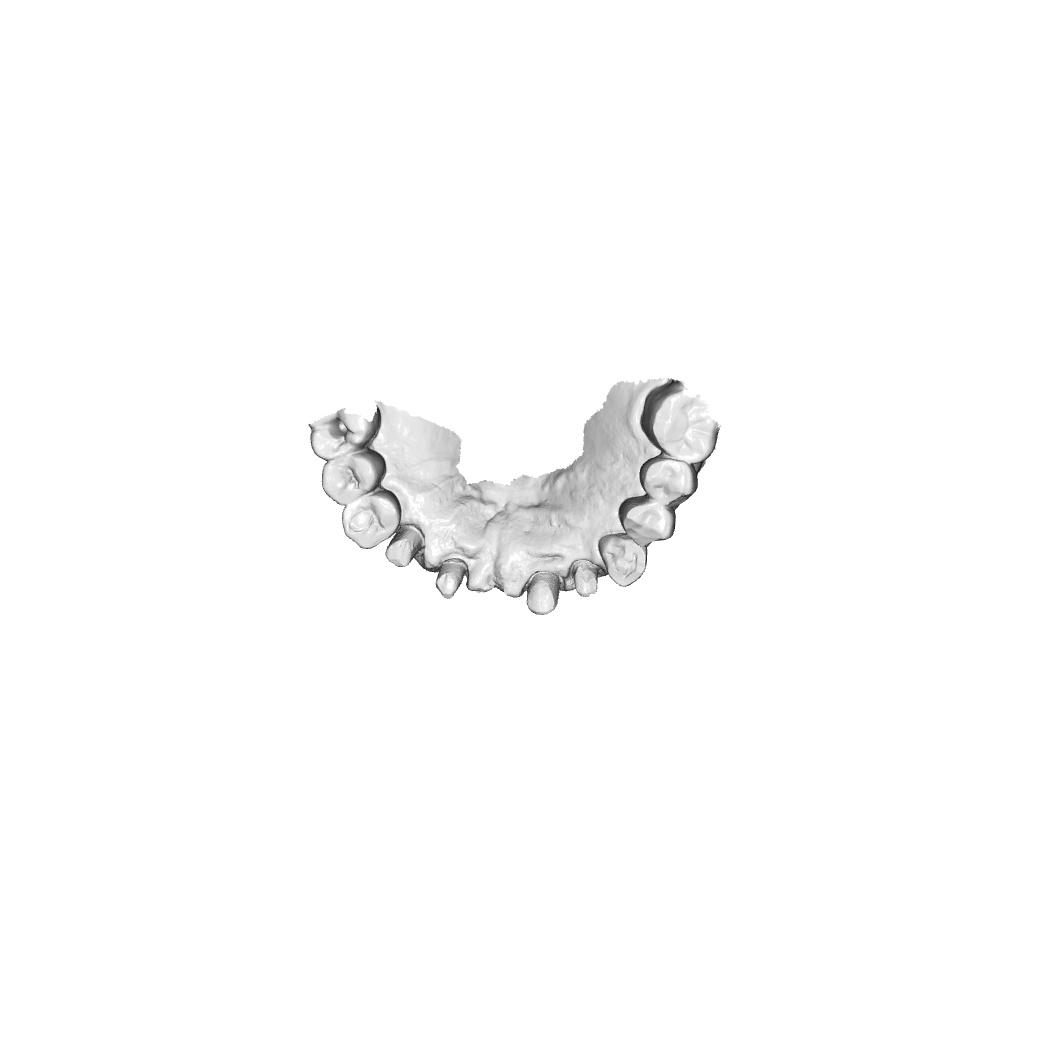canine: (598, 533, 649, 588)
crown: (384, 523, 426, 568), (524, 570, 561, 616), (434, 557, 470, 602), (568, 558, 601, 598)
molar: (640, 378, 720, 465), (308, 404, 382, 462)
premolar: (321, 448, 389, 507), (340, 489, 402, 550), (617, 495, 677, 548), (639, 454, 699, 505)
